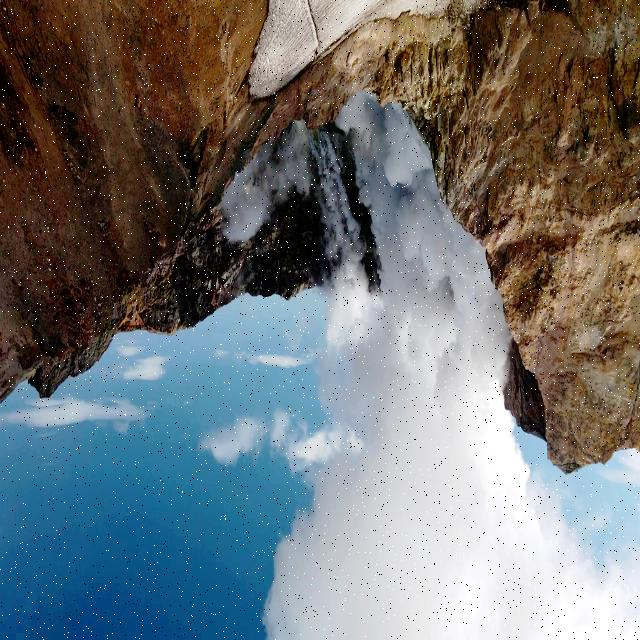asap: (256, 82, 636, 640), (378, 103, 586, 639), (305, 277, 451, 627), (211, 119, 320, 253)
